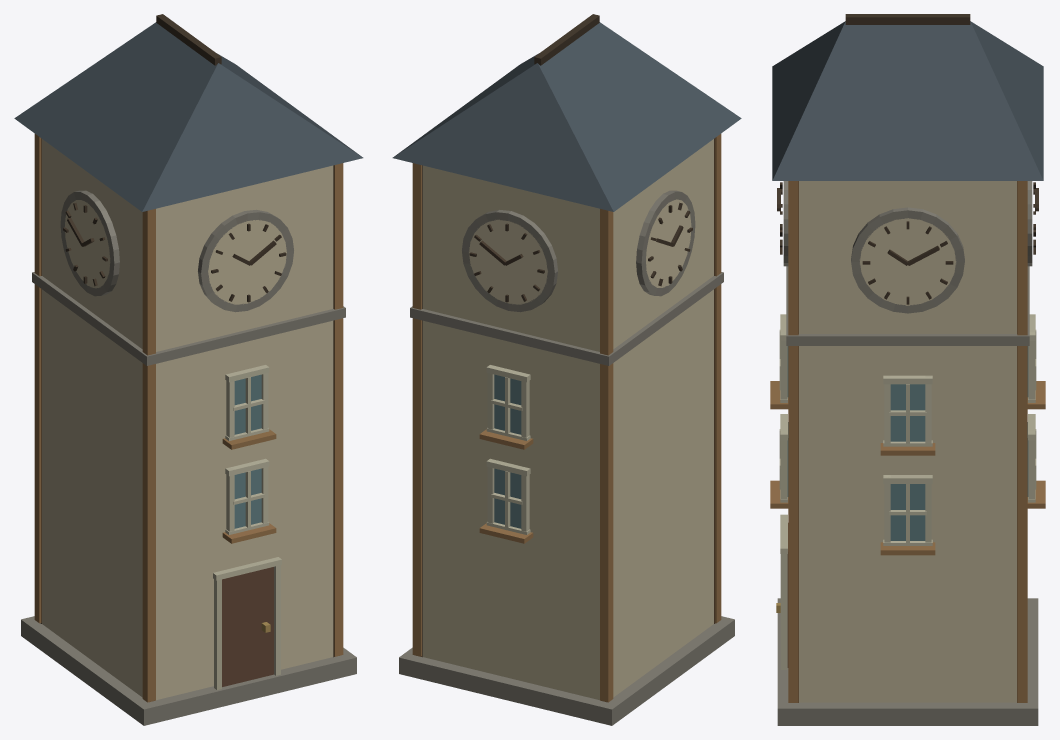
The model's file is Building_Landmark_ClockTower_001.glb.
The picture shows the model from 3 angles, left to right: view 1: azimuth 30°, elevation 25°; view 2: azimuth 150°, elevation 25°; view 3: azimuth 270°, elevation 25°; orthographic projection. The views are drawn at different scales.
Visible parts, largest first — view 1: Building_Landmark_ClockTower_001; view 2: Building_Landmark_ClockTower_001; view 3: Building_Landmark_ClockTower_001.
Boxes of the visible parts, <box> form: Building_Landmark_ClockTower_001: <box>14,14,363,725</box>; Building_Landmark_ClockTower_001: <box>392,14,741,725</box>; Building_Landmark_ClockTower_001: <box>770,14,1045,725</box>.
Bounding box in the file's own units: 3.98 × 10.54 × 4.01.
